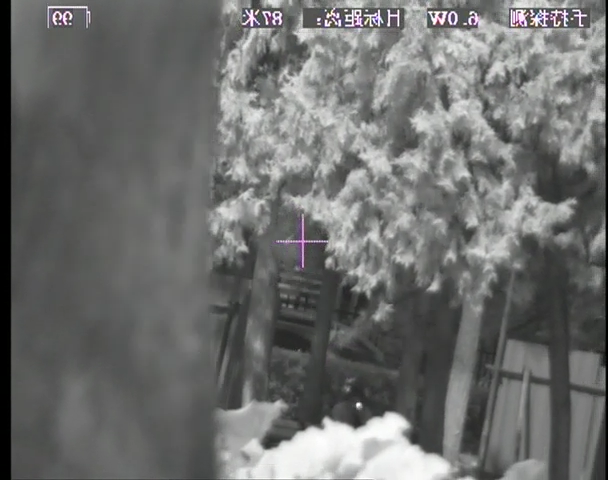my: (355, 401, 365, 411)
